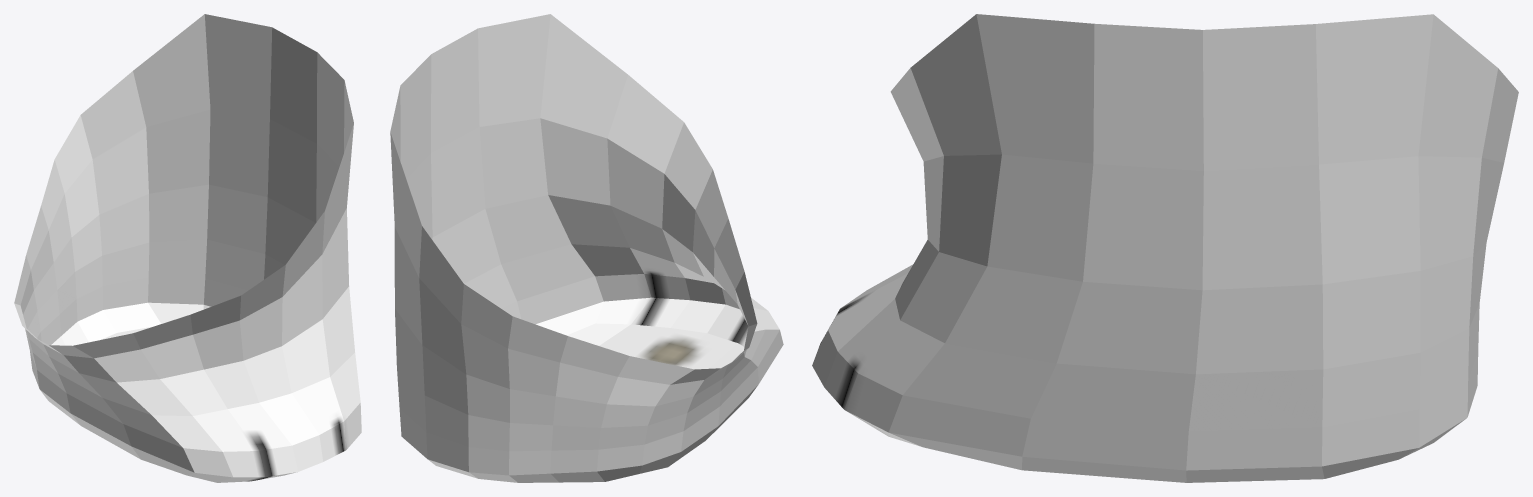
Rendered from PiernaDerecha.obj.
3 views of the same model, side by side, from view 1: azimuth 30°, elevation 25°; view 2: azimuth 150°, elevation 25°; view 3: azimuth 270°, elevation 25° (orthographic). The views are drawn at different scales.
Parts seen in each view (by area): view 1: polySurface15 polySurface12 polySurface10; view 2: polySurface15 polySurface12 polySurface10; view 3: polySurface15 polySurface12 polySurface10.
Part boxes in pixels (box(x1,y1,x2,y2)): polySurface15 polySurface12 polySurface10: box(14, 14, 361, 482); polySurface15 polySurface12 polySurface10: box(390, 14, 783, 482); polySurface15 polySurface12 polySurface10: box(812, 14, 1518, 482).
Size of the model in its own units: 1.54 by 1.63 by 2.17.
Materials: 1 (1 with a texture image).
